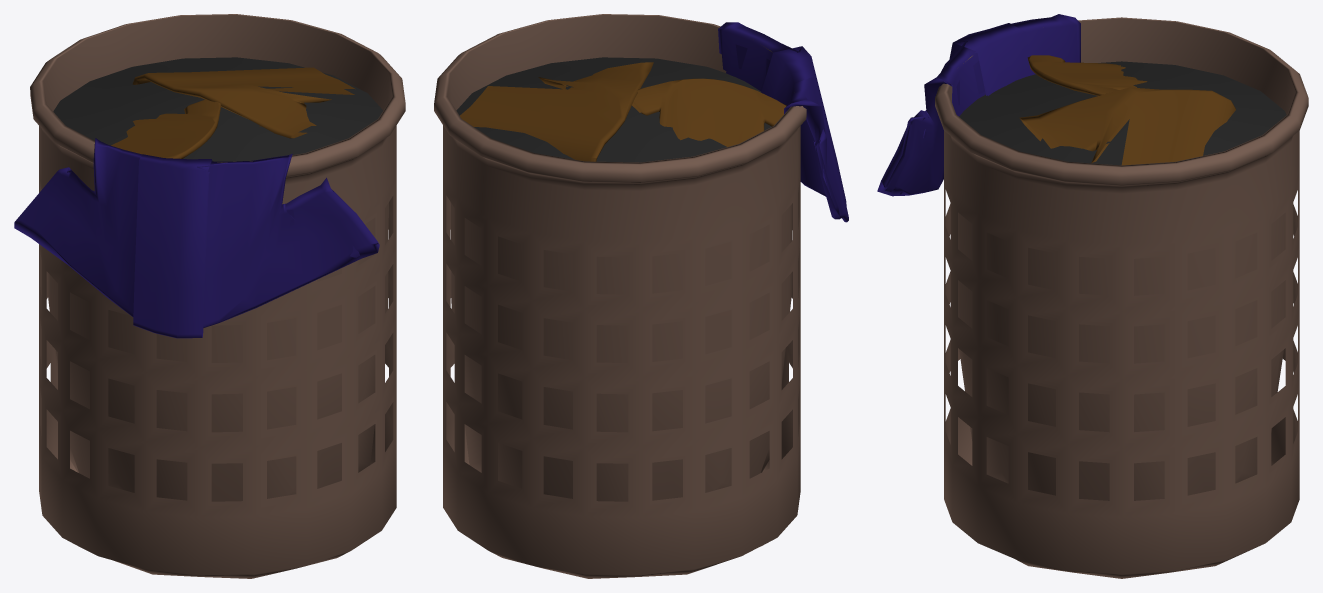
File: lawndry baskitt.fbx
3 views of the same model, side by side, from view 1: azimuth 30°, elevation 25°; view 2: azimuth 150°, elevation 25°; view 3: azimuth 270°, elevation 25° (orthographic).
Parts seen in each view (by area): view 1: Laundry_basket, Shirt, pCylinder1, Shirt43, Shirt41; view 2: Laundry_basket, Shirt43, pCylinder1, Shirt, Shirt41; view 3: Laundry_basket, Shirt, pCylinder1, Shirt43, Shirt41.
Boxes of the visible parts, box(x1,y1,x2,y2) form: Laundry_basket: box(30, 14, 405, 578); Shirt: box(14, 138, 379, 338); pCylinder1: box(53, 57, 383, 161); Shirt43: box(132, 67, 355, 138); Shirt41: box(111, 99, 221, 158); Laundry_basket: box(434, 14, 806, 578); Shirt43: box(460, 62, 653, 161); pCylinder1: box(456, 57, 771, 162); Shirt: box(718, 22, 848, 222); Shirt41: box(632, 78, 786, 146); Laundry_basket: box(935, 17, 1308, 578); Shirt: box(877, 14, 1080, 196); pCylinder1: box(959, 61, 1286, 165); Shirt43: box(1019, 87, 1235, 165); Shirt41: box(1027, 55, 1147, 95).
Bounding box in the file's own units: 1.75 × 1.93 × 1.76.
